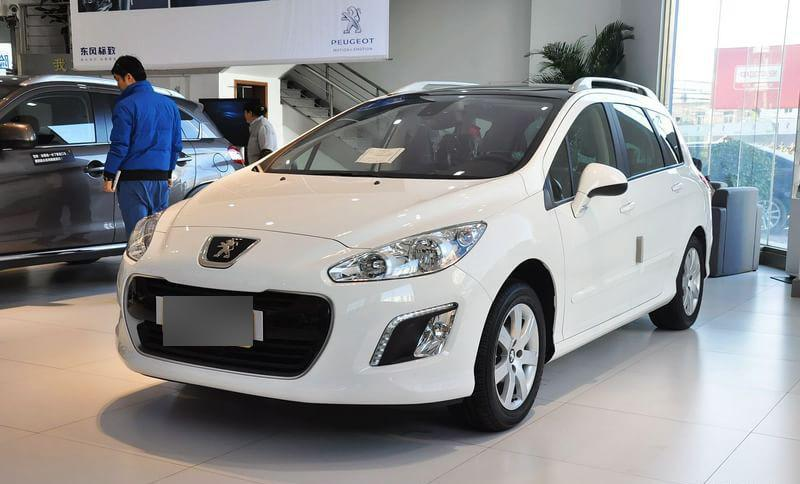Wagon: (113, 75, 714, 431)
